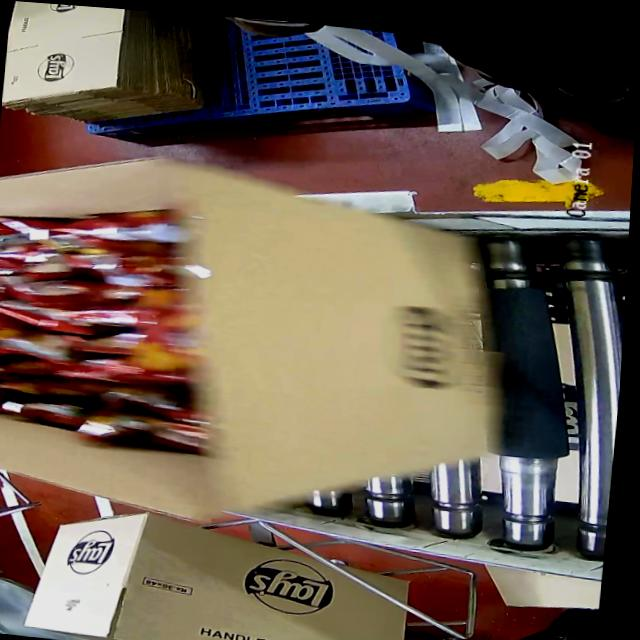MASALA: (0, 201, 228, 463)
